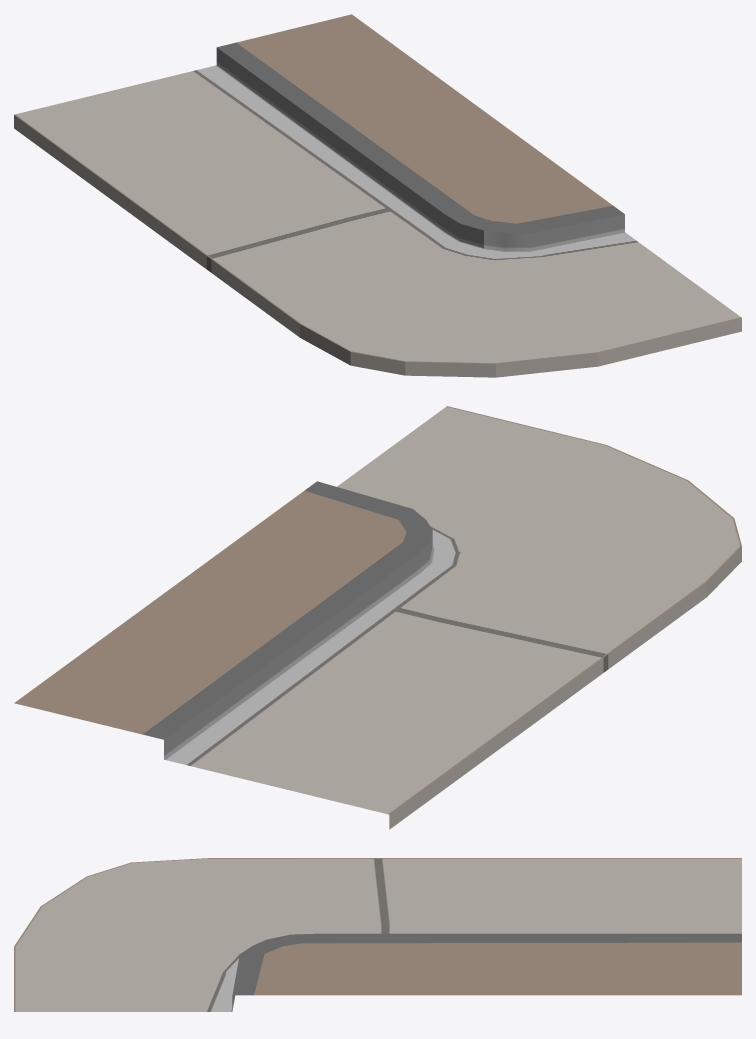
File: island_corner_straight_mesh.fbx
The picture shows the model from 3 angles, top to bottom: view 1: azimuth 30°, elevation 25°; view 2: azimuth 150°, elevation 25°; view 3: azimuth 270°, elevation 25°; orthographic projection. The views are drawn at different scales.
Parts seen in each view (by area): view 1: island_corner_1_mesh; view 2: island_corner_1_mesh; view 3: island_corner_1_mesh.
Boxes of the visible parts, x1,y1,x2,y2 form: island_corner_1_mesh: (14, 14, 741, 377); island_corner_1_mesh: (14, 406, 741, 829); island_corner_1_mesh: (14, 858, 741, 1011).
Size of the model in its own units: 5 by 0.4479 by 10.
